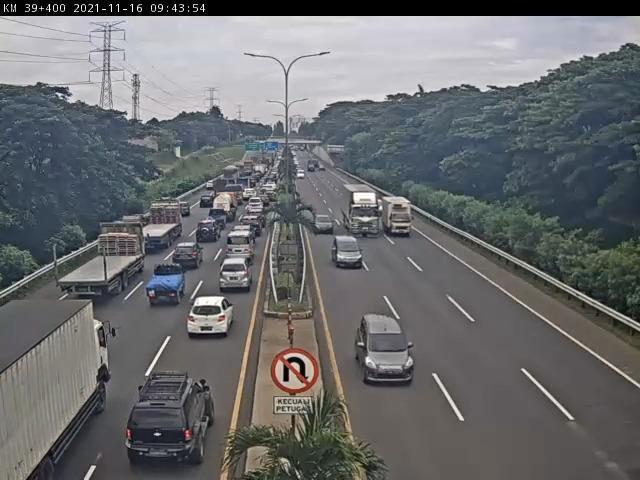car: (125, 373, 214, 470), (358, 314, 417, 386), (188, 295, 238, 340), (146, 263, 189, 307), (218, 259, 254, 297), (334, 236, 364, 271), (172, 245, 204, 274), (227, 232, 256, 263), (194, 222, 221, 249), (313, 212, 334, 235), (208, 210, 228, 230), (176, 201, 194, 221)
truck: (53, 221, 150, 303), (132, 203, 182, 261), (341, 182, 382, 237), (381, 195, 415, 241)
